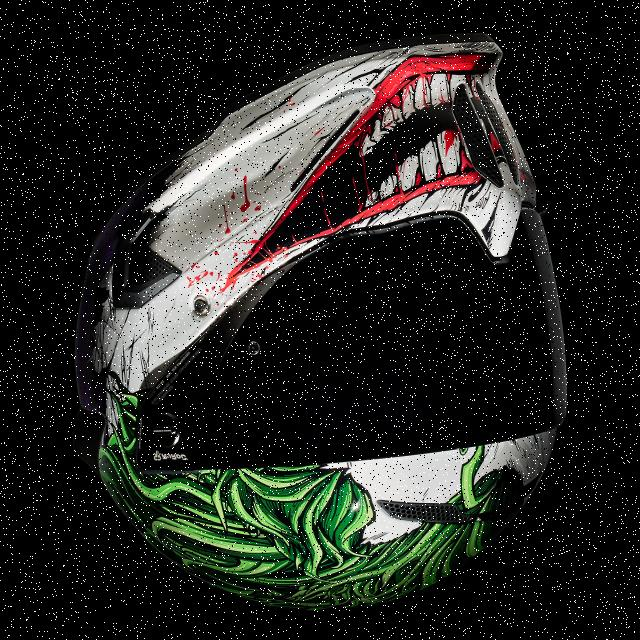Helmet: (74, 35, 566, 609)
